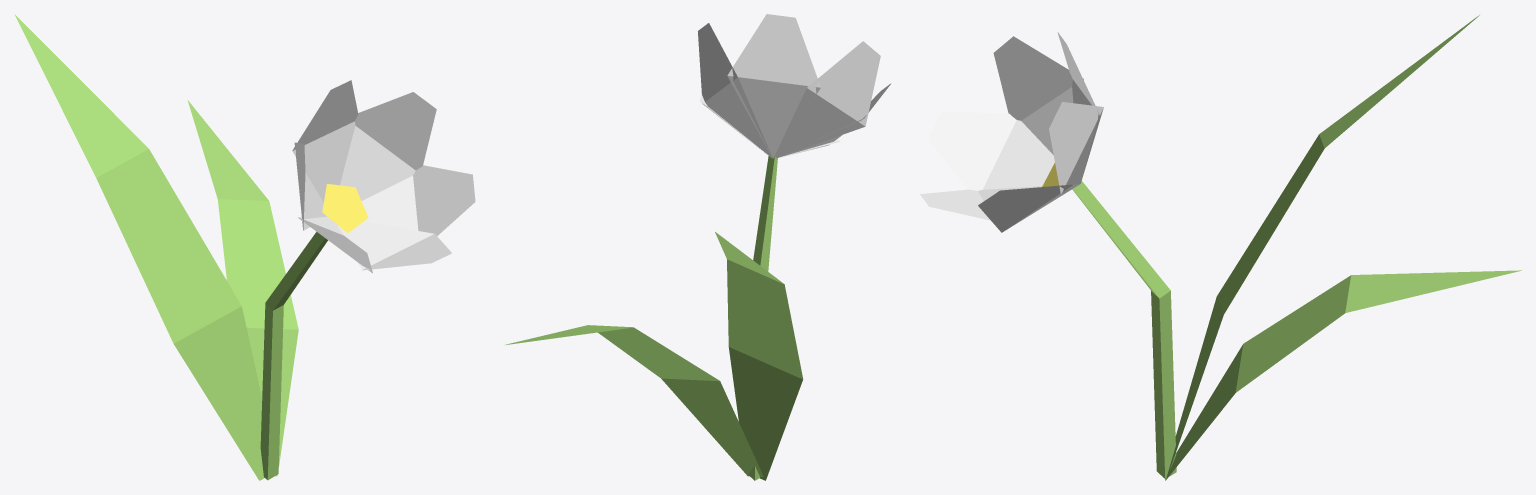
File: Flower_e_TwoS_07.fbx
3 renders of one model, left to right at view 1: azimuth 30°, elevation 25°; view 2: azimuth 150°, elevation 25°; view 3: azimuth 270°, elevation 25°, orthographic. The views are drawn at different scales.
Parts seen in each view (by area): view 1: Flower_e_TwoS_07; view 2: Flower_e_TwoS_07; view 3: Flower_e_TwoS_07.
Part boxes in pixels (x1=…): Flower_e_TwoS_07: x1=14, y1=14, x2=475, y2=480; Flower_e_TwoS_07: x1=506, y1=14, x2=891, y2=480; Flower_e_TwoS_07: x1=920, y1=15, x2=1521, y2=480.
Size of the model in its own units: 19.75 by 34.35 by 41.49.
